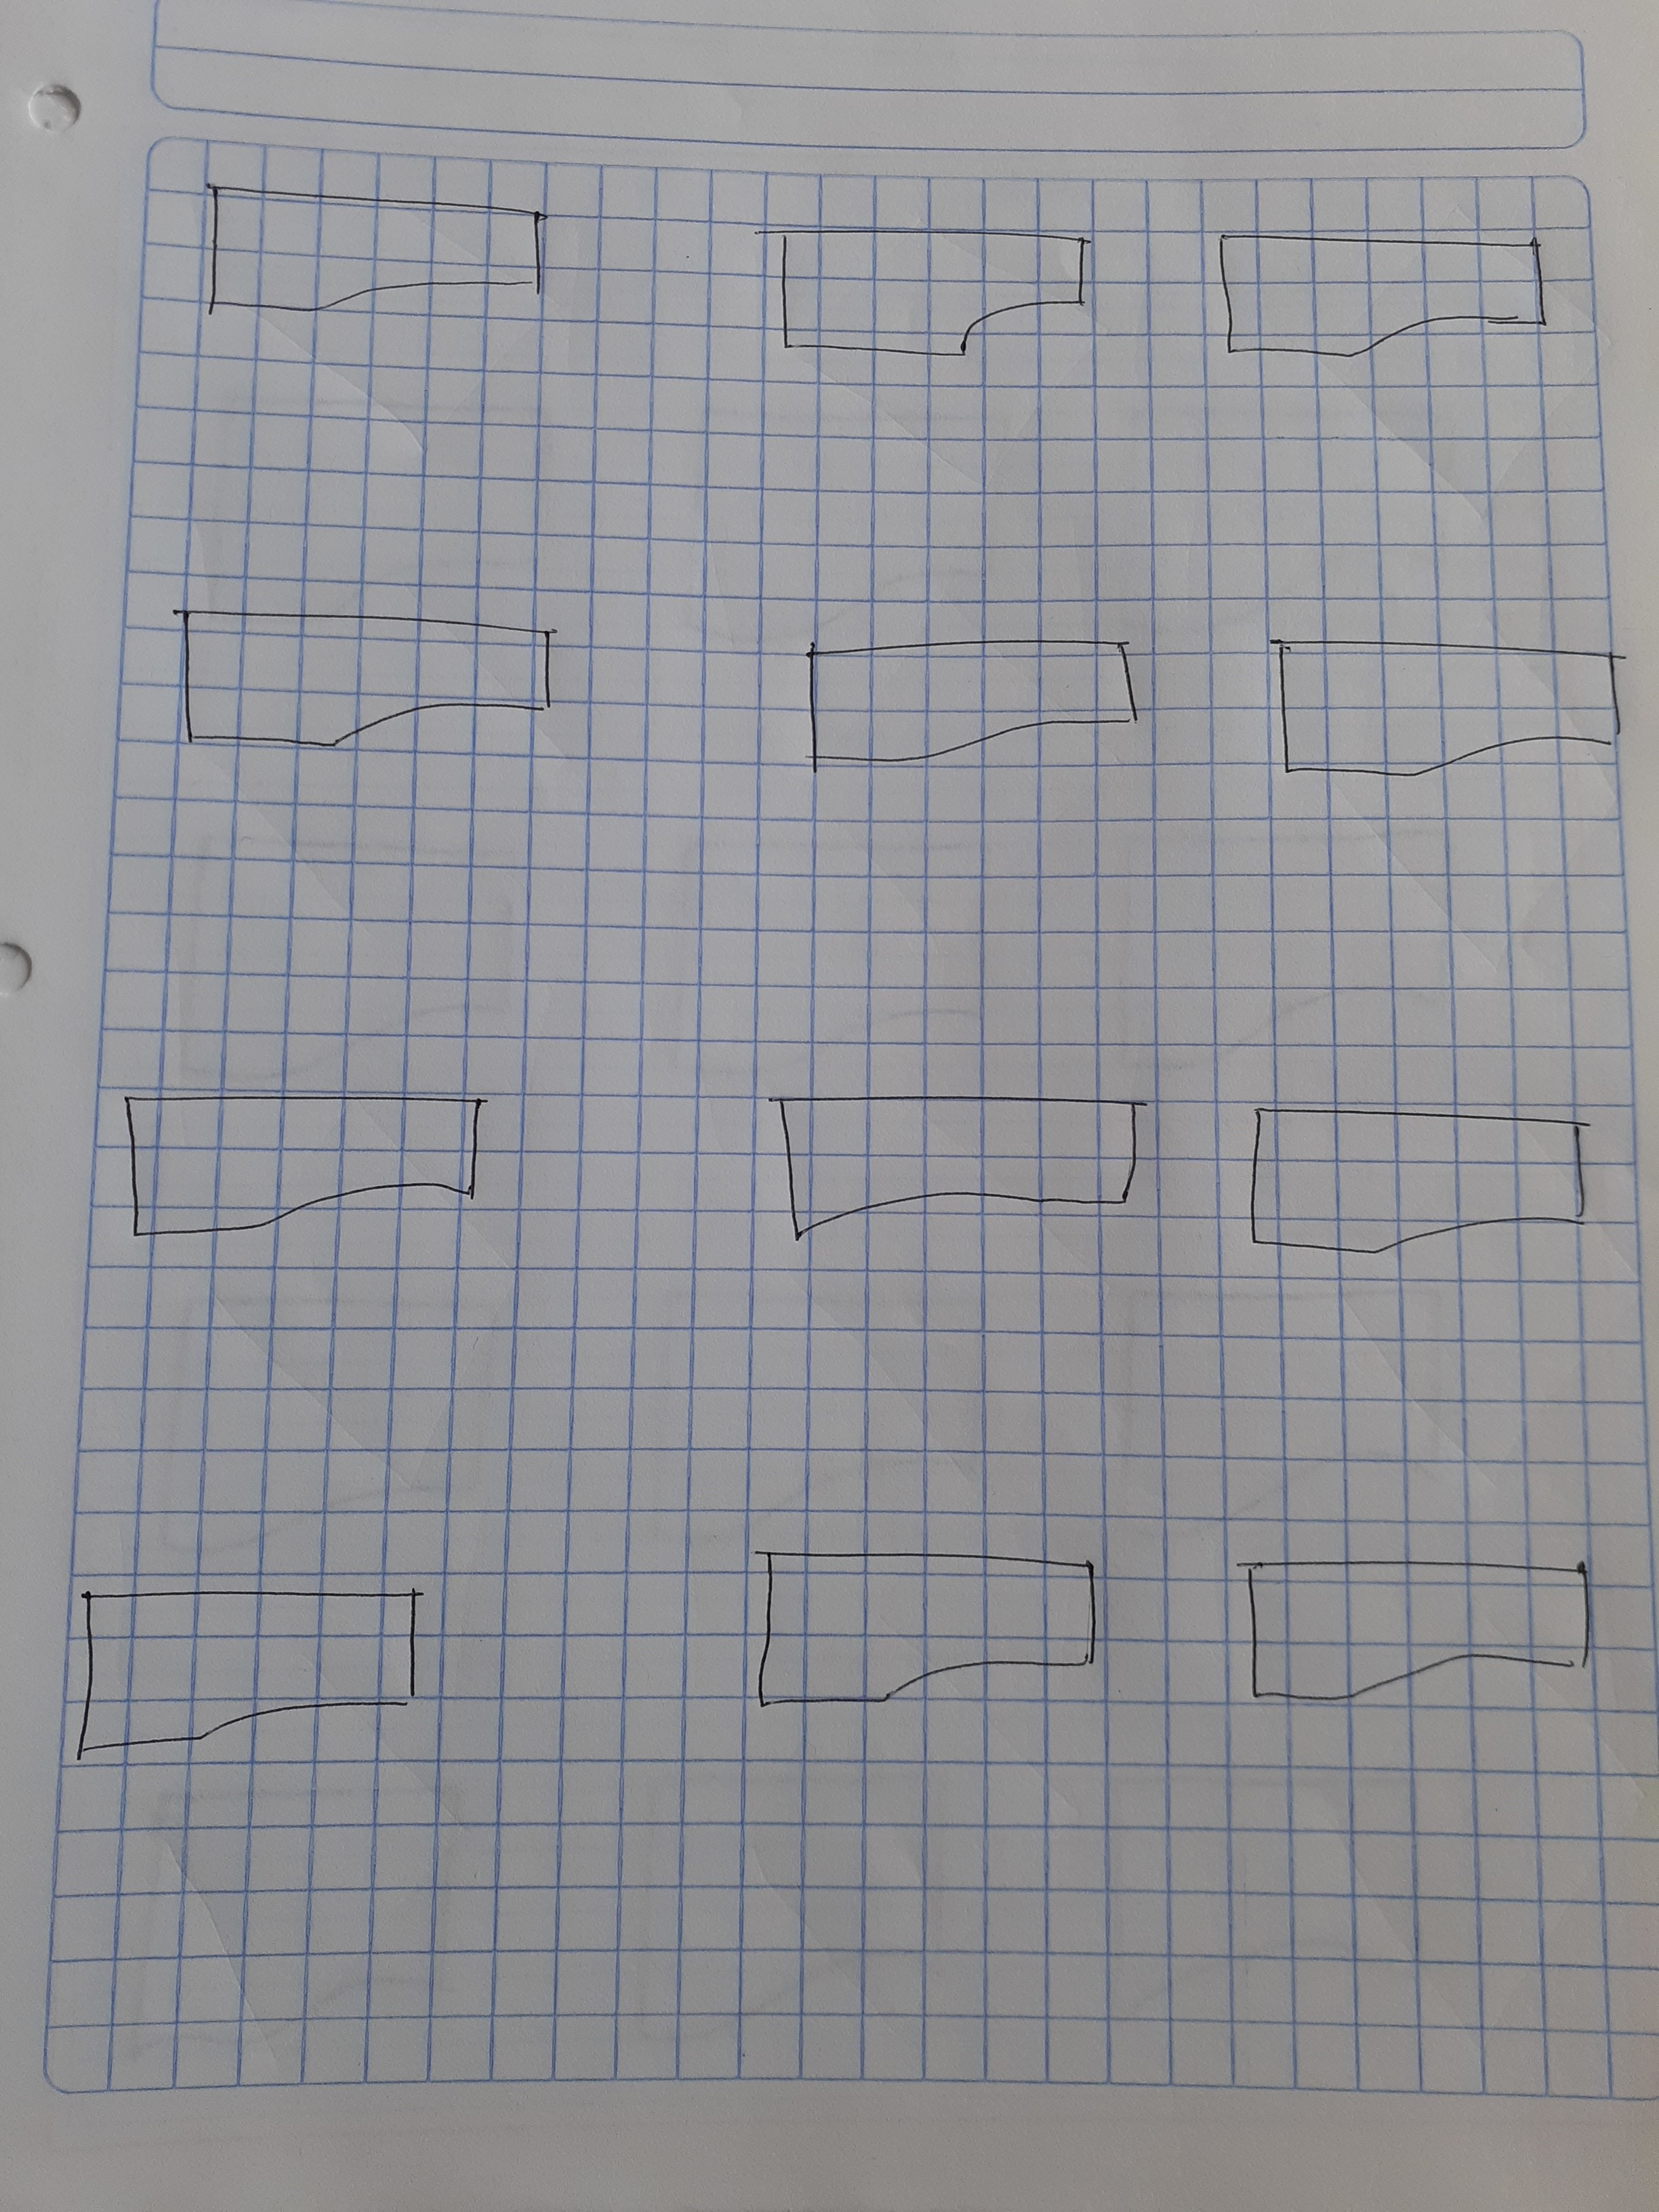print: (42, 1522, 458, 1834), (725, 1493, 1147, 1770), (756, 1021, 1166, 1303), (179, 141, 580, 394), (1211, 1052, 1617, 1299), (1227, 1526, 1610, 1750), (1251, 611, 1642, 827), (770, 590, 1155, 808), (767, 181, 1140, 394), (110, 1059, 498, 1261), (174, 578, 584, 758), (1216, 192, 1563, 388)
